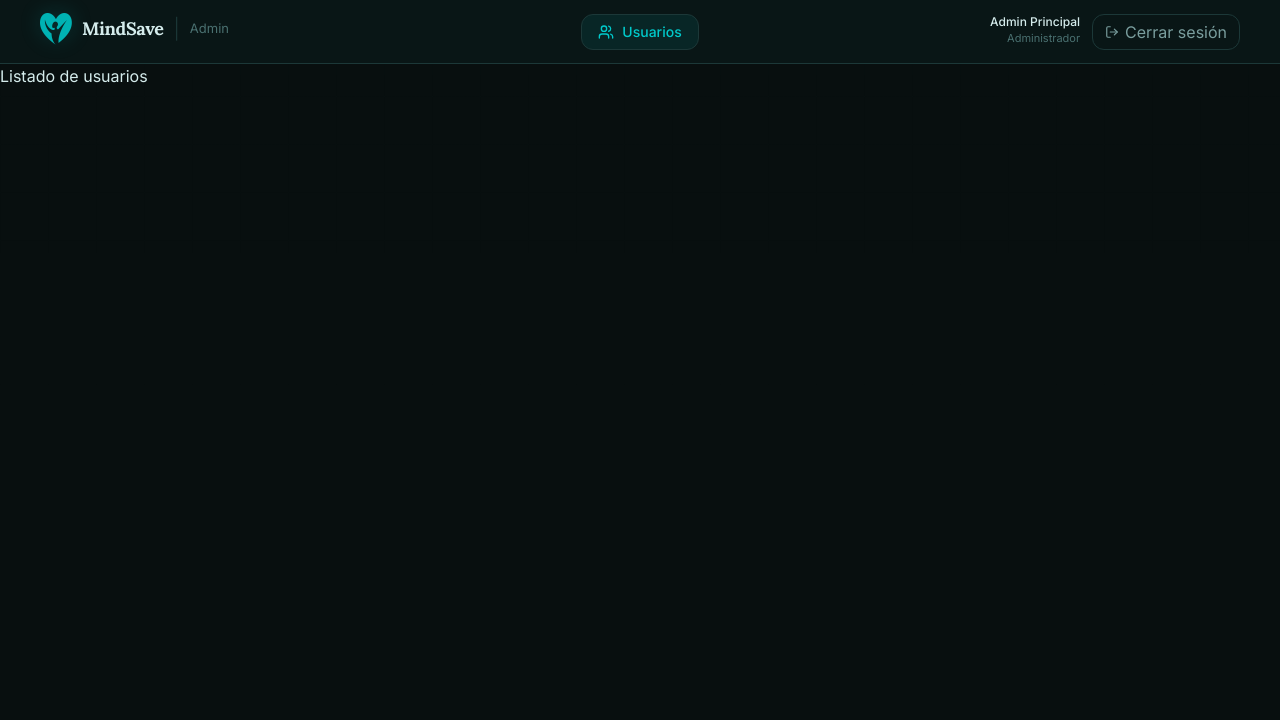
Test: Inicio y navegación del panel › CP-ADW-56 Cerrar sesión desde la cabecera vuelve al login
The image size is (1280, 720).
Step 1. Click the button "Cerrar sesión" → (1166,32), box [1092, 14, 1240, 50]
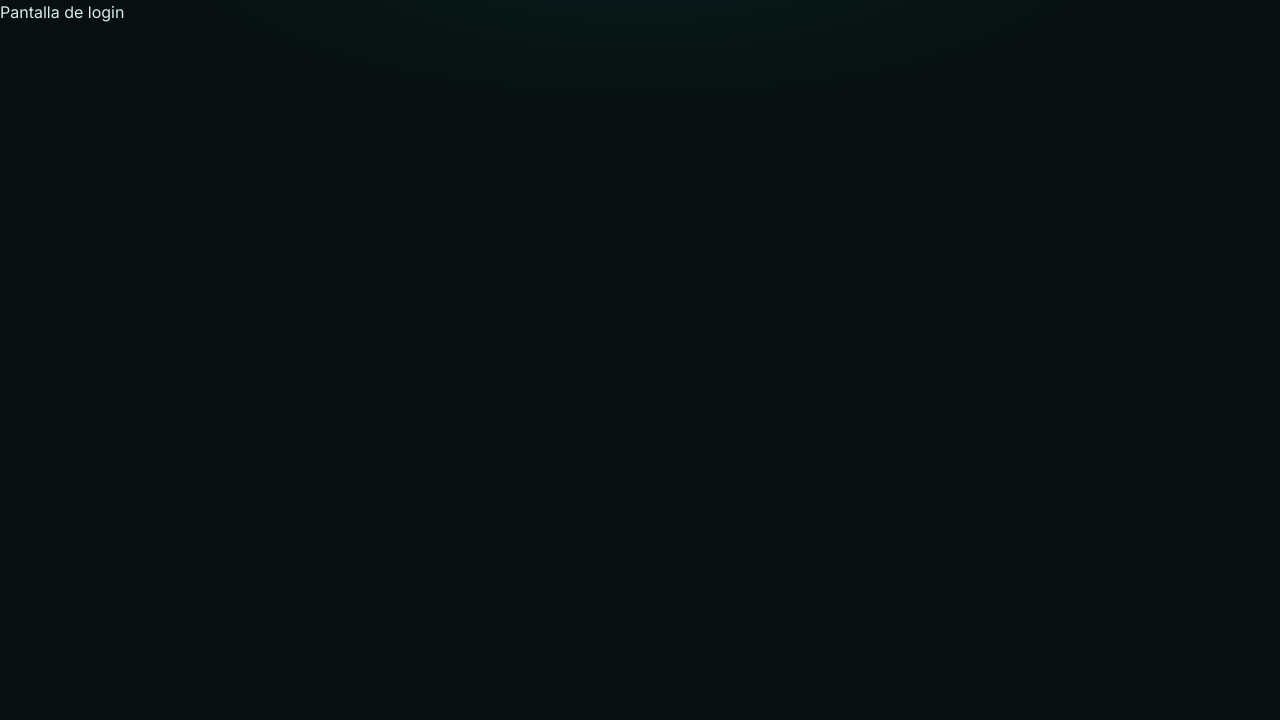
Now the text "Pantalla de login" is shown, box [0, 2, 124, 22]
